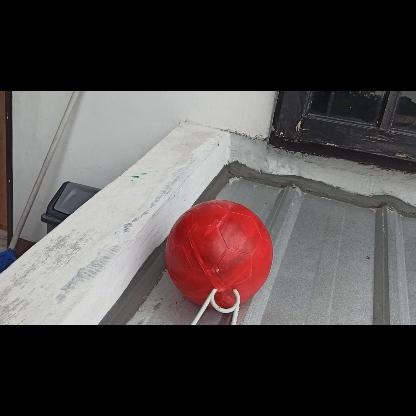red_ball: (167, 200, 275, 308)
